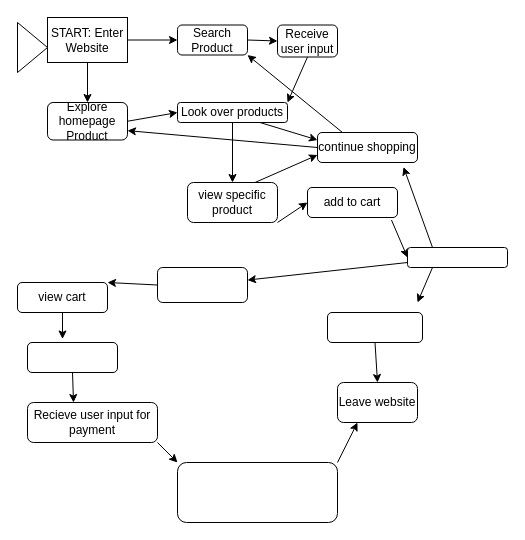
This 525x540 diagram has some shape labels left out. Each missing label, with the centre of its shape:
"cart confirmation" belongs at (x=457, y=257).
"check out" belongs at (x=202, y=284).
"do not check out" belongs at (x=374, y=327).
"Order confirmation screen and confirmation email sent" belongs at (x=257, y=492).
"view payment" belongs at (x=72, y=357).
